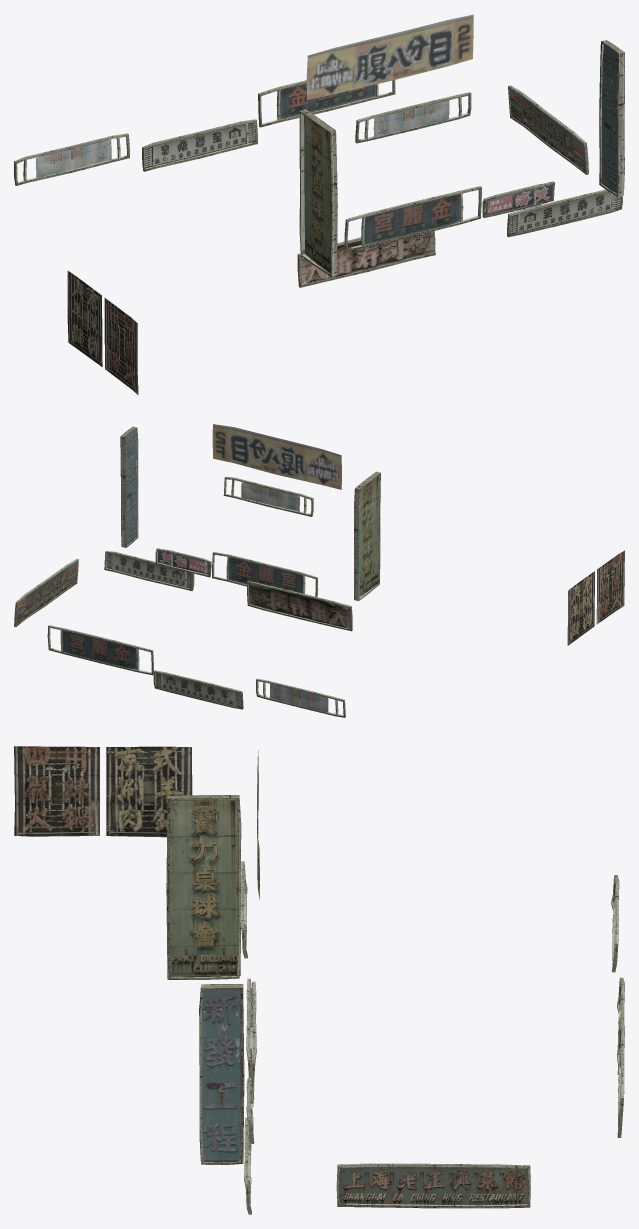
3 views of the same model, one above another, from view 1: azimuth 30°, elevation 25°; view 2: azimuth 150°, elevation 25°; view 3: azimuth 270°, elevation 25° (orthographic). The views are drawn at different scales.
Visible parts, largest first — view 1: SM_HK_03_03; view 2: SM_HK_03_03; view 3: SM_HK_03_03.
Part boxes in pixels (bbox=[...]): SM_HK_03_03: bbox=[14, 14, 624, 394]; SM_HK_03_03: bbox=[14, 424, 624, 717]; SM_HK_03_03: bbox=[14, 746, 624, 1214].
Bounding box in the file's own units: 3087 × 1160 × 2260.
